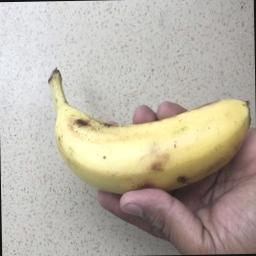Banana Ripe: (42, 65, 256, 224)
